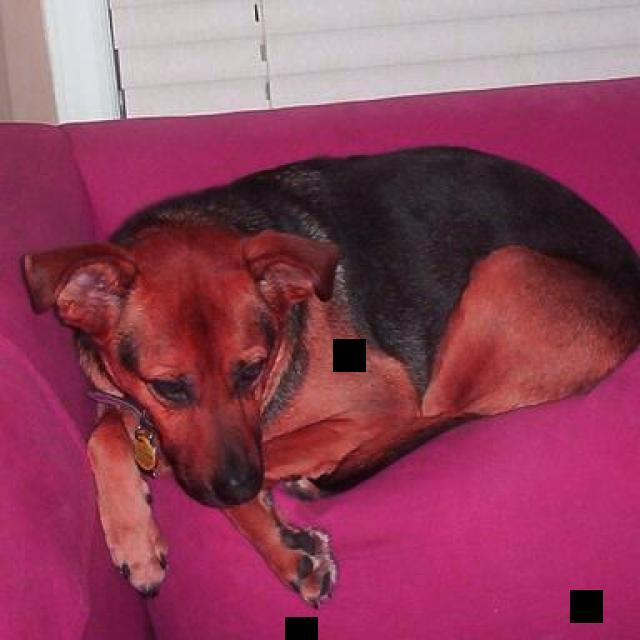adult_dog: (24, 146, 640, 601)
